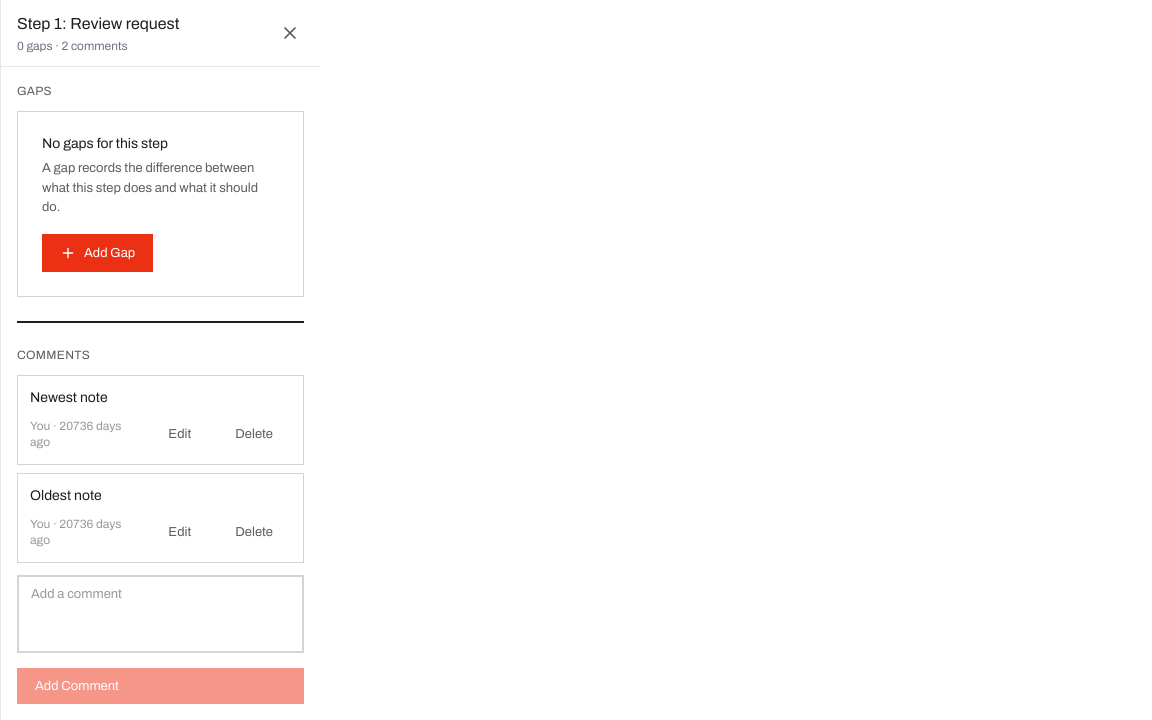
Scenario: CommentsSection in RightPanel › deletes a comment only after the confirmation is accepted
The image size is (1152, 720).
Click the button with aria-label "Delete comment:": {"x": 254, "y": 434} top-left (217, 416), bottom-right (291, 452)
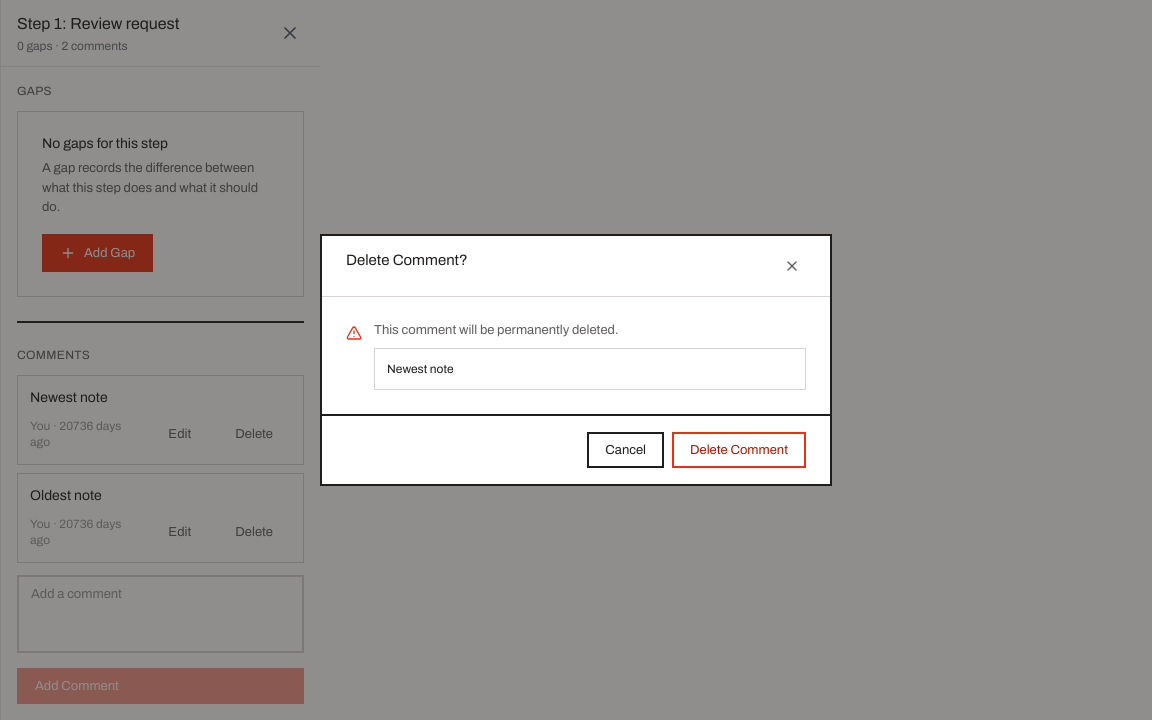
Click the button "Delete Comment": {"x": 739, "y": 450} top-left (672, 432), bottom-right (806, 468)
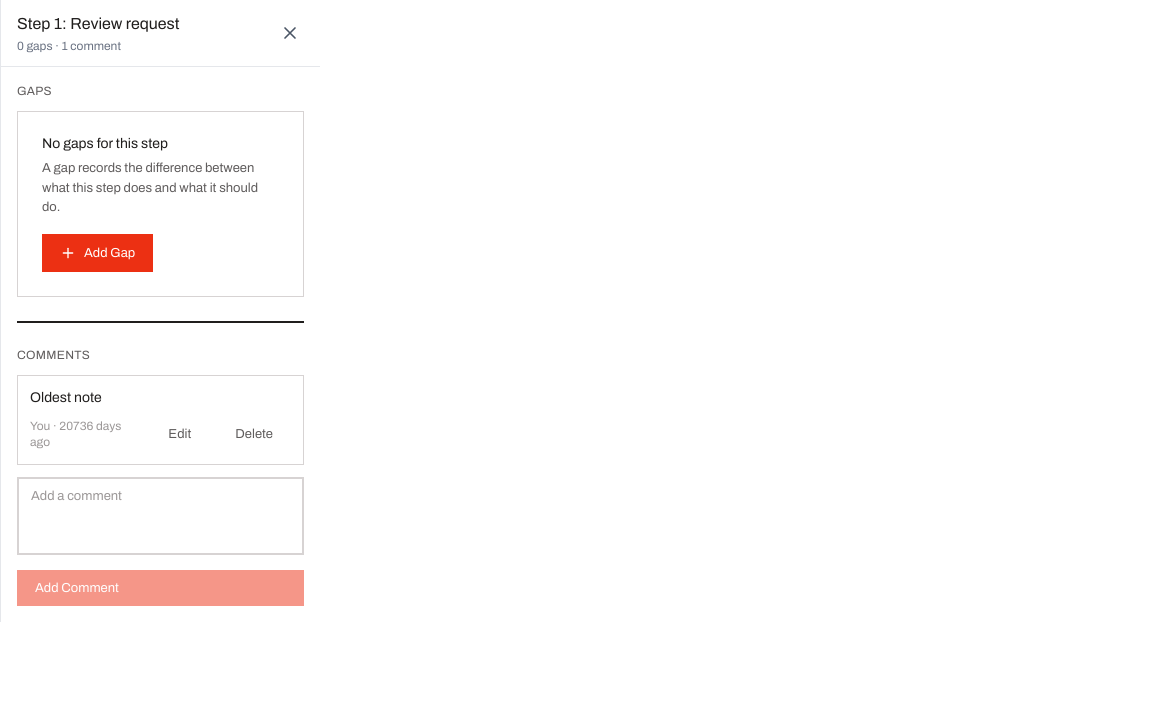
Expected: the text "Oldest note" is shown, top-left (30, 390), bottom-right (102, 404)
Expected: the text "Newest note" is gone
